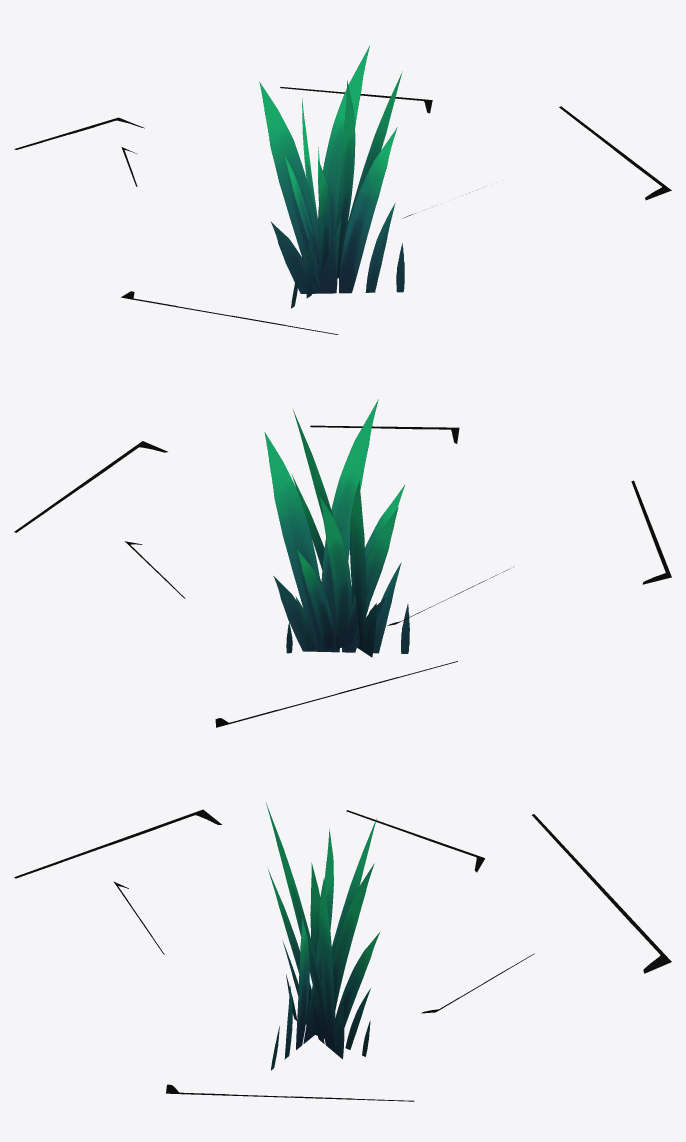
Rendered from m_PlantSmall1.FBX.
3 renders of one model, top to bottom at view 1: azimuth 30°, elevation 25°; view 2: azimuth 150°, elevation 25°; view 3: azimuth 270°, elevation 25°, orthographic. The views are drawn at different scales.
Parts seen in each view (by area): view 1: plant smol 1; view 2: plant smol 1; view 3: plant smol 1.
Part boxes in pixels (x1,y1,x2,y2): plant smol 1: (14, 45, 671, 334); plant smol 1: (14, 399, 671, 727); plant smol 1: (14, 803, 671, 1101).
Bounding box in the file's own units: 8.93 × 4.47 × 8.96.
